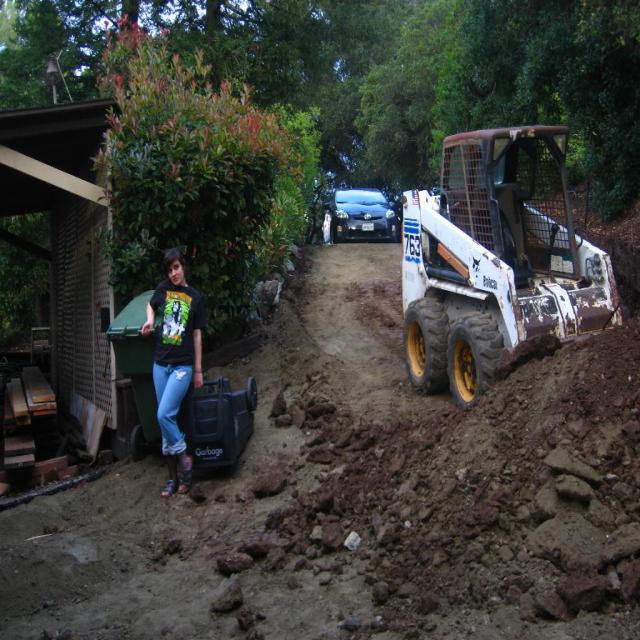car: (324, 180, 399, 239)
